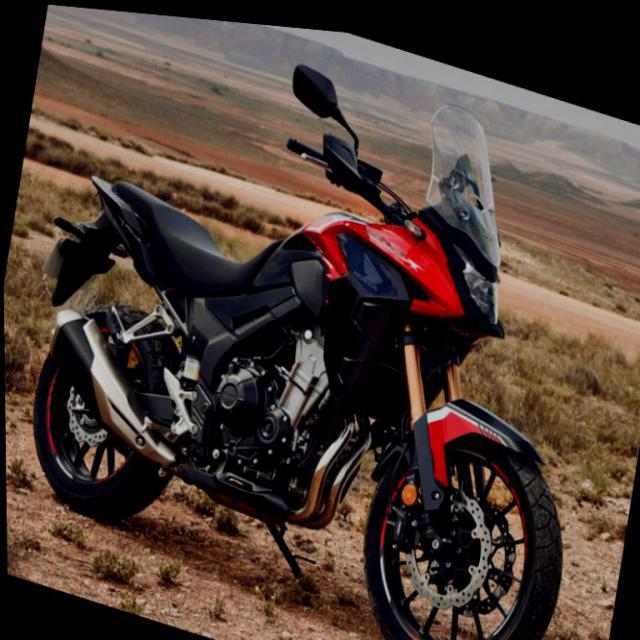CB500X: (0, 0, 636, 639)
